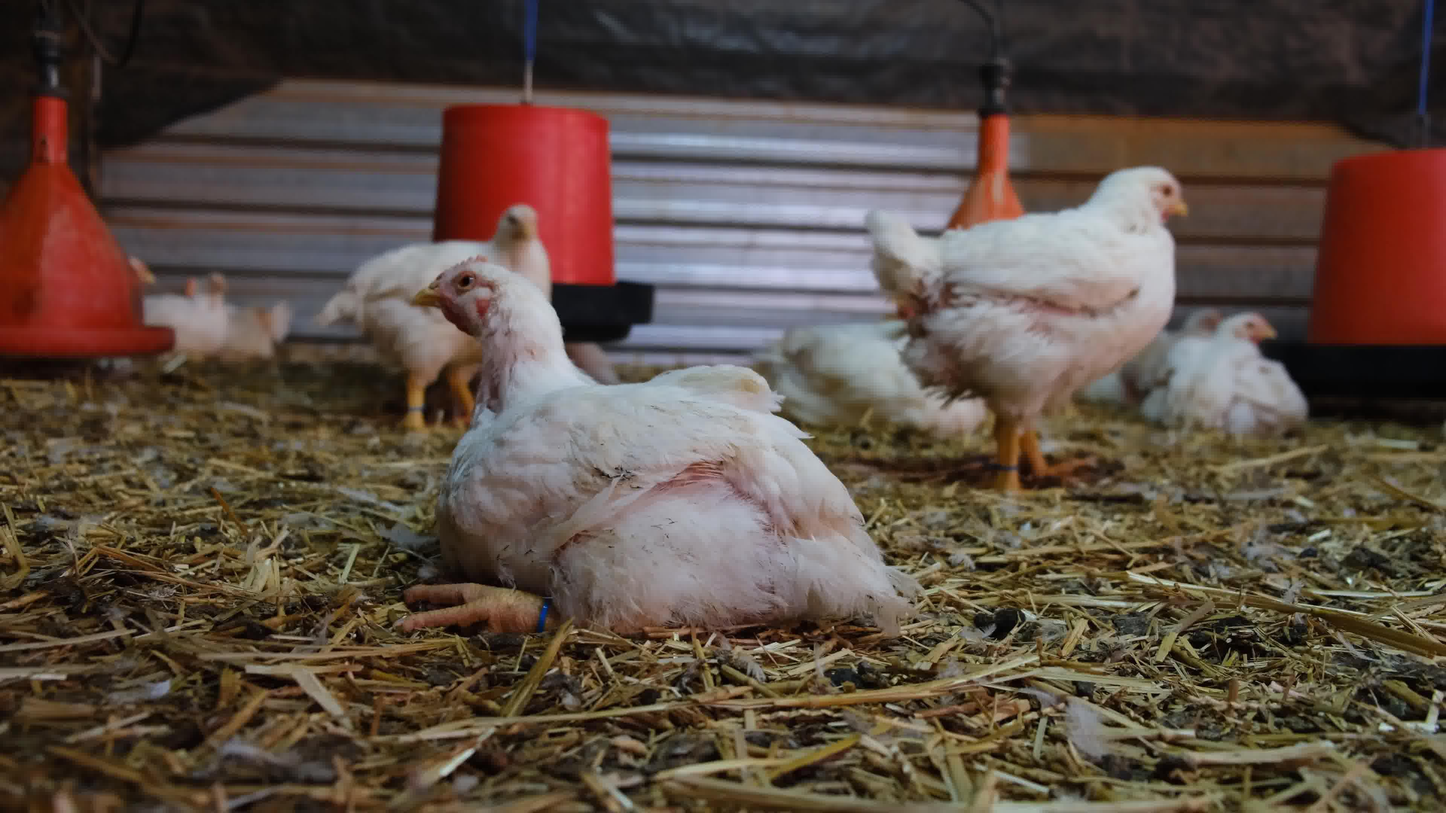AbNormal: (388, 258, 915, 619), (757, 303, 1017, 448), (1182, 309, 1312, 444), (1132, 286, 1237, 401)
Normal: (874, 162, 1196, 501), (326, 205, 569, 416), (147, 273, 245, 358), (230, 301, 303, 367)
